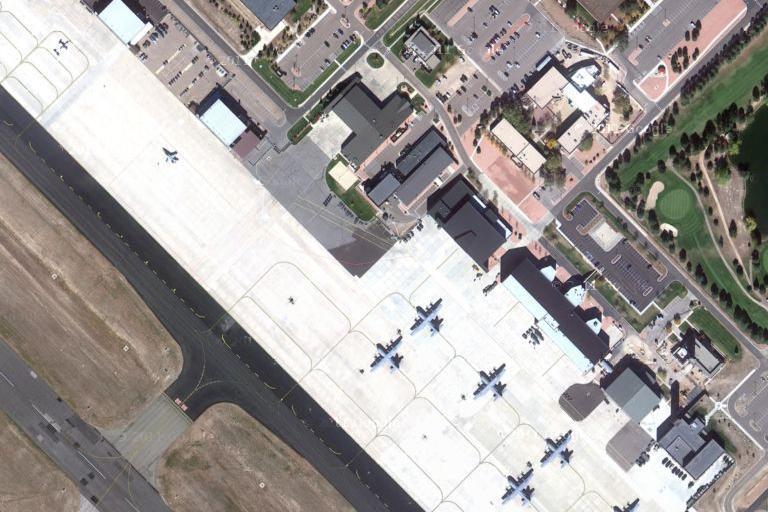C-130: (364, 333, 406, 373), (497, 469, 542, 504), (539, 431, 578, 469), (409, 299, 446, 336), (473, 365, 511, 401)
